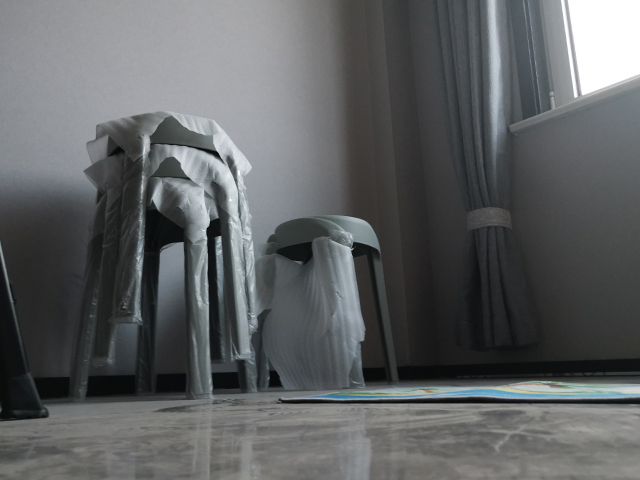carpet: (275, 376, 640, 406)
curtain: (428, 1, 545, 354)
stool: (64, 108, 264, 403), (259, 212, 399, 387)
